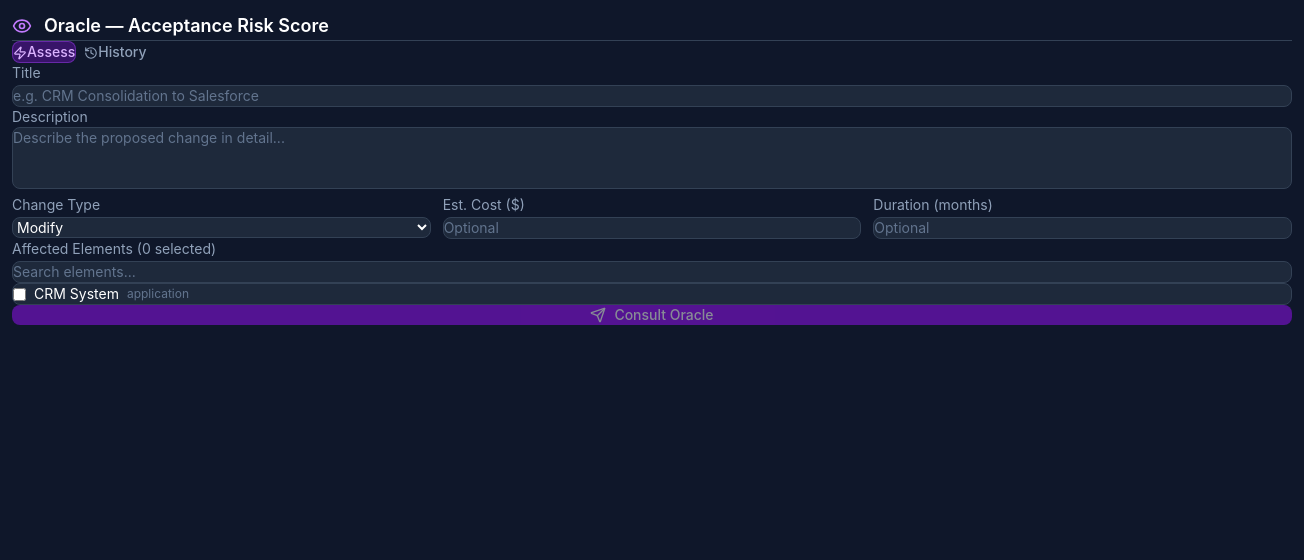
Test: OraclePanel — Evidence / Audit section (THE-423 Task 15) › does not render the Evidence / Audit affordance when contextTraceId is absent
The width and height of the screenshot is (1304, 560).
In the field with placeholder "e.g. CRM Consolidation to Salesforce": point(652, 96) [12, 85, 1292, 107], type "Test Proposal"
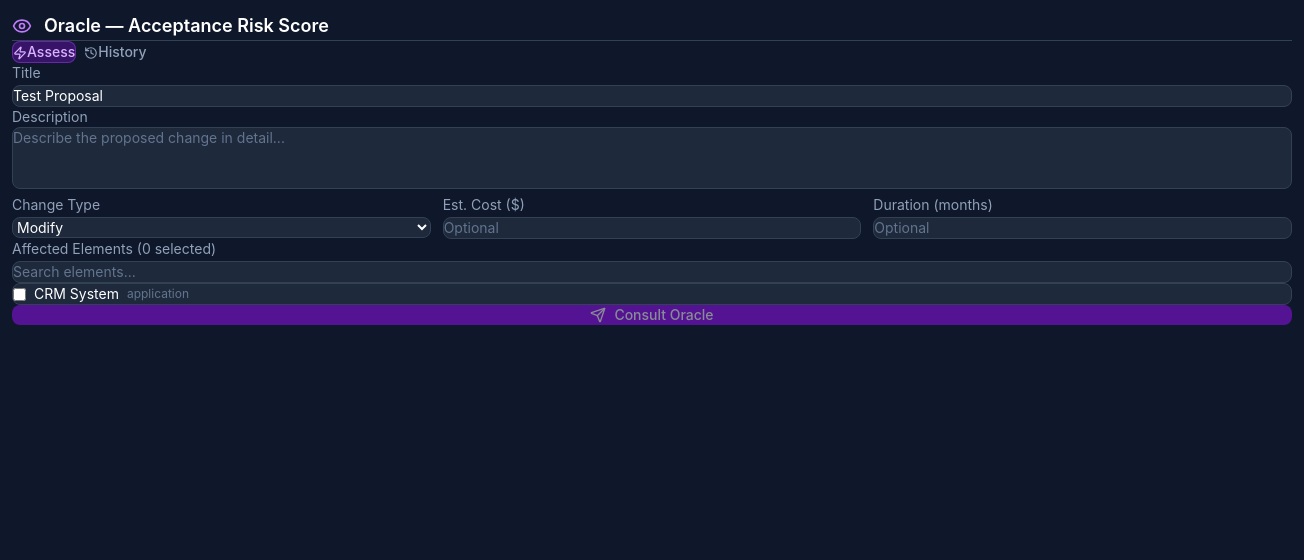
In the text box with placeholder "Describe the proposed change in detail...": point(652, 158) [12, 127, 1292, 189], type "A description long enough."
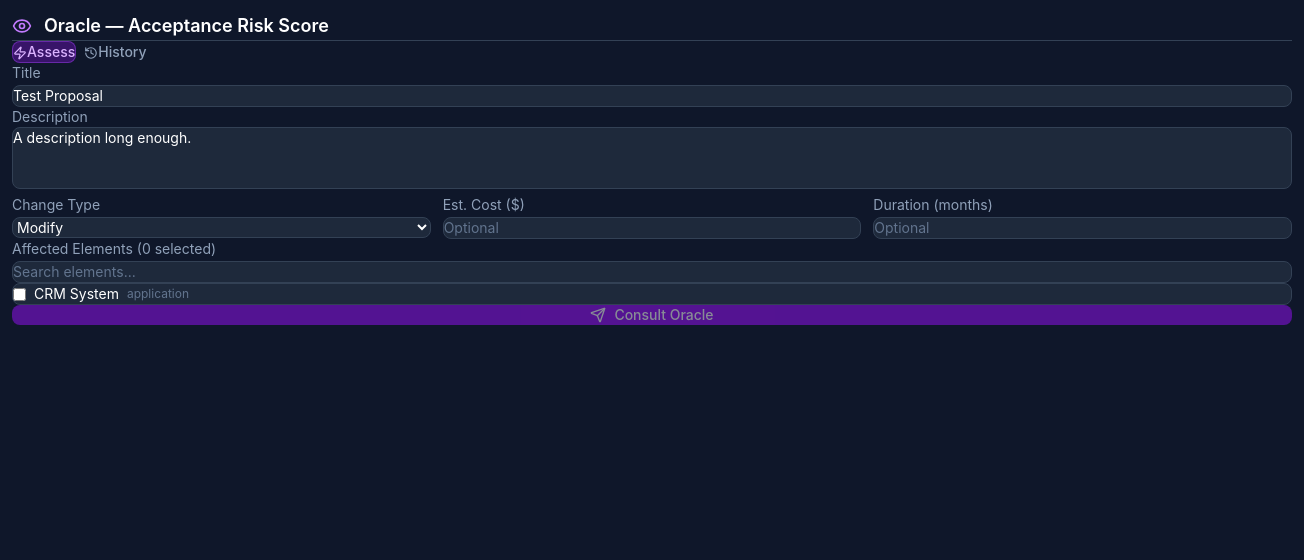
Click the text "CRM System": point(76, 294) [34, 284, 119, 304]
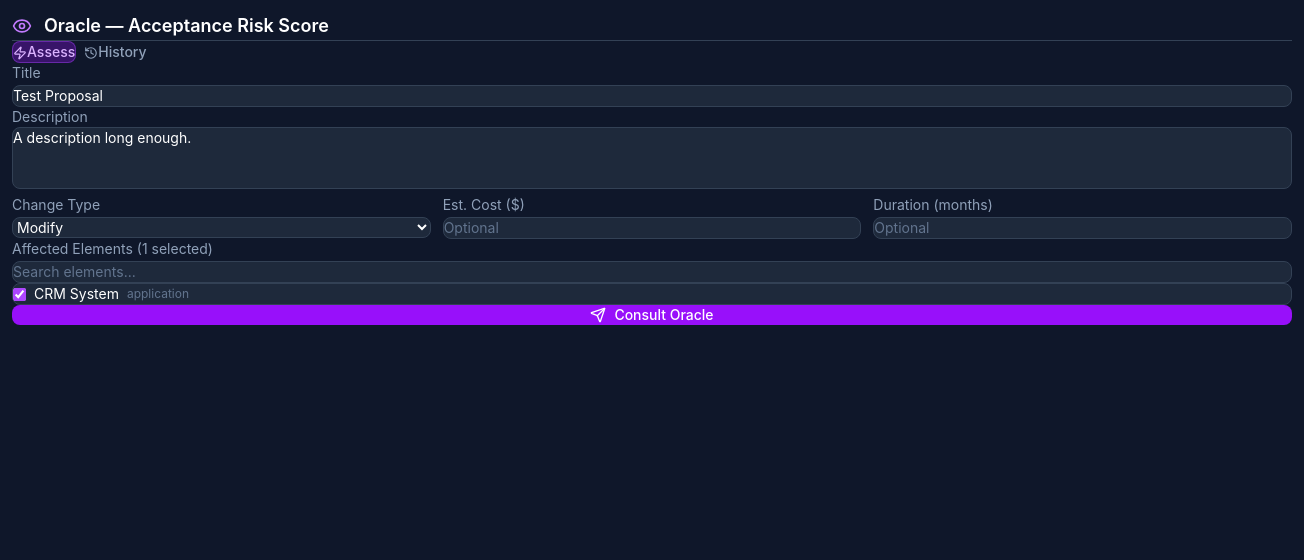
Click the button "Consult Oracle": point(652, 315) [12, 305, 1292, 325]
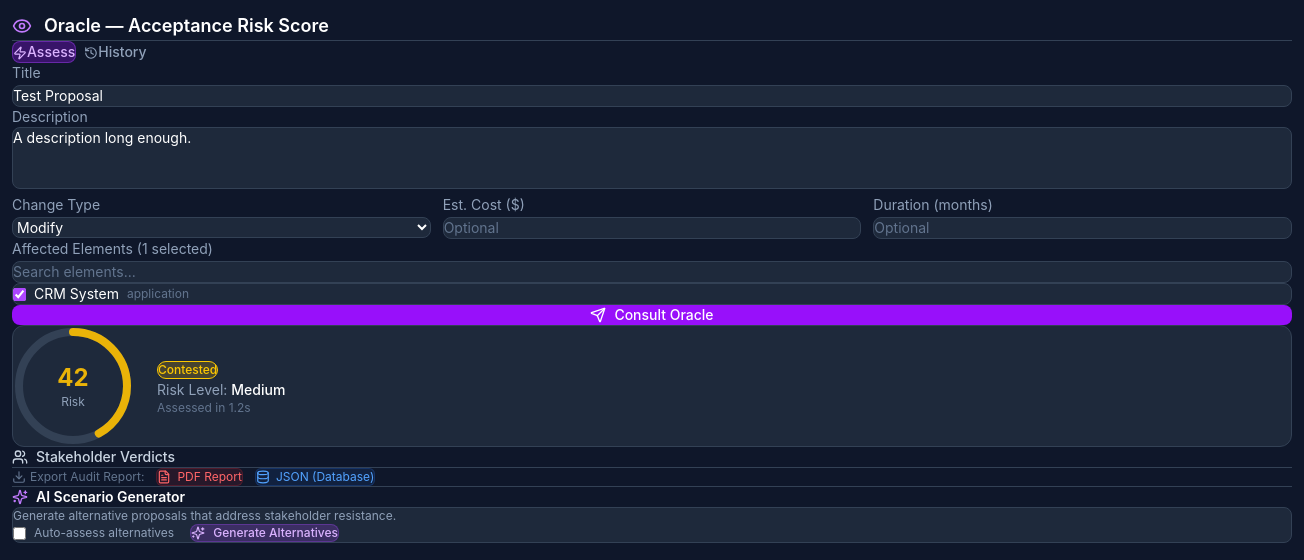
expect the heading "Stakeholder Verdicts" is shown: met, box [12, 448, 175, 465]
